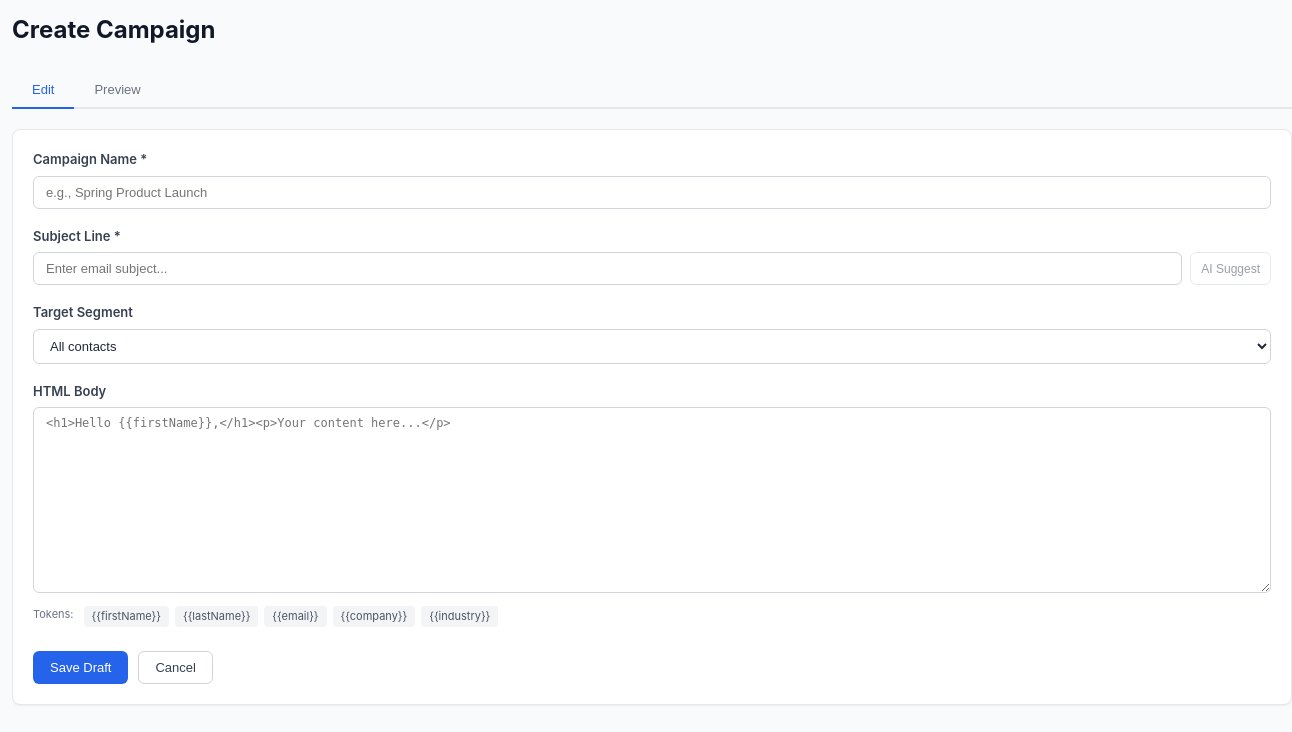
Scenario: CampaignEditor › shows AI suggestion dropdown and picks a suggestion
Note: Type a subject first
Type "Check this out" into the field with placeholder "Enter email subject...". click: x=608, y=268
box: left=33, top=252, right=1182, bottom=285
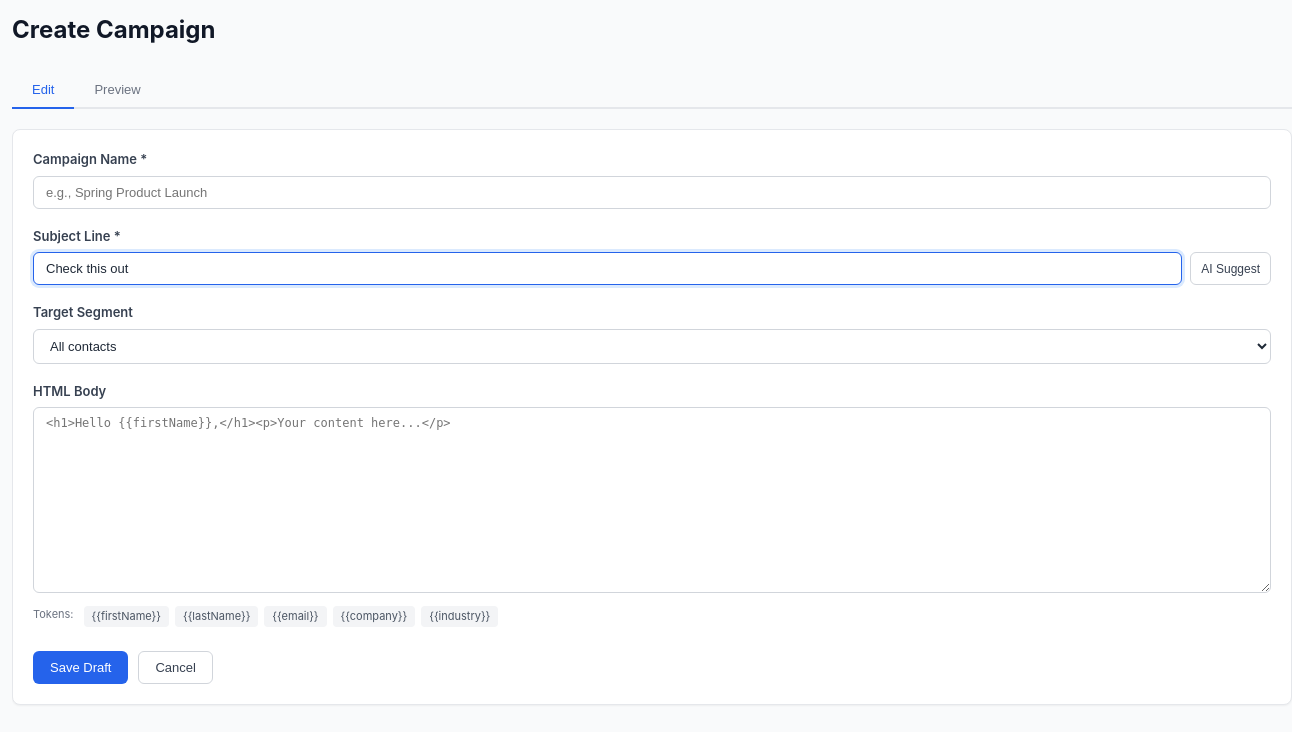
Note: Click AI Suggest button
Click the button "AI Suggest". click: x=1231, y=268
box: left=1190, top=252, right=1271, bottom=285
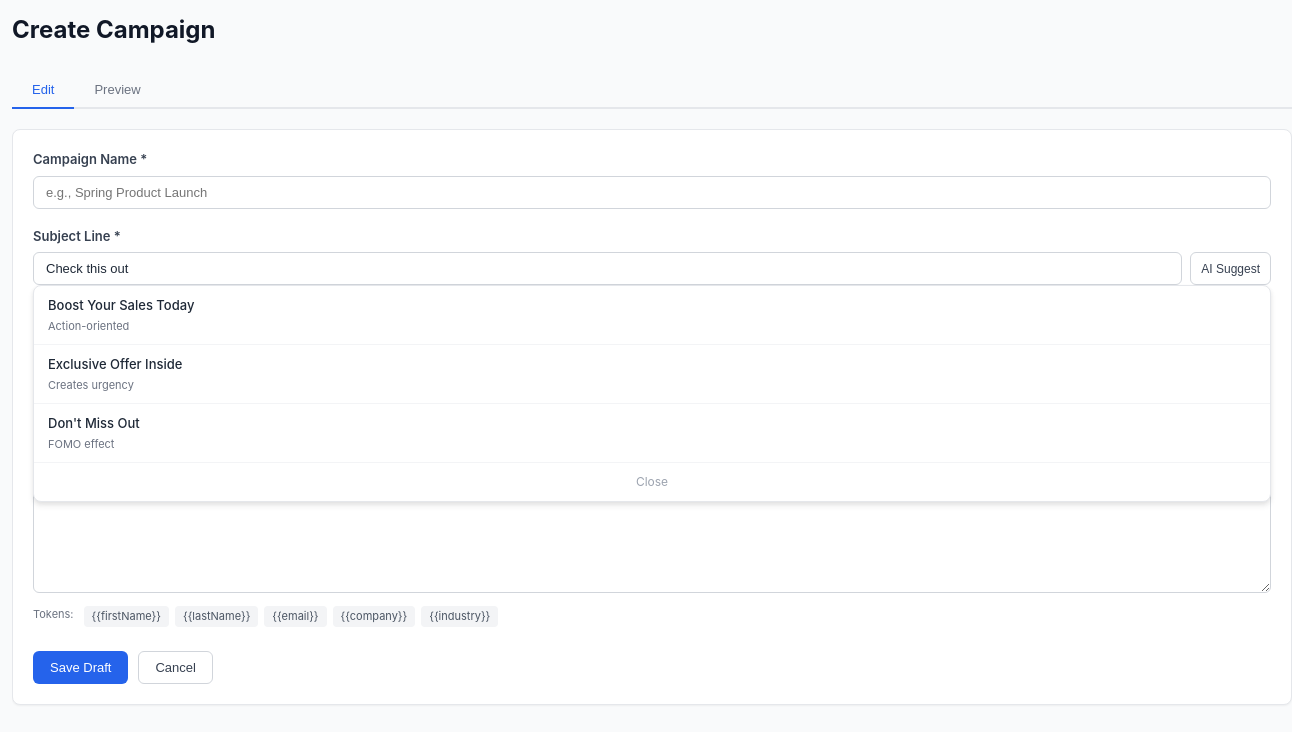
Check: the text "Boost Your Sales Today" is shown
Check: the text "Action-oriented" is shown, box left=48, top=318, right=129, bottom=332
Note: Click a suggestion
Click the text "Boost Your Sales Today". click: x=121, y=305
box: left=48, top=297, right=194, bottom=313
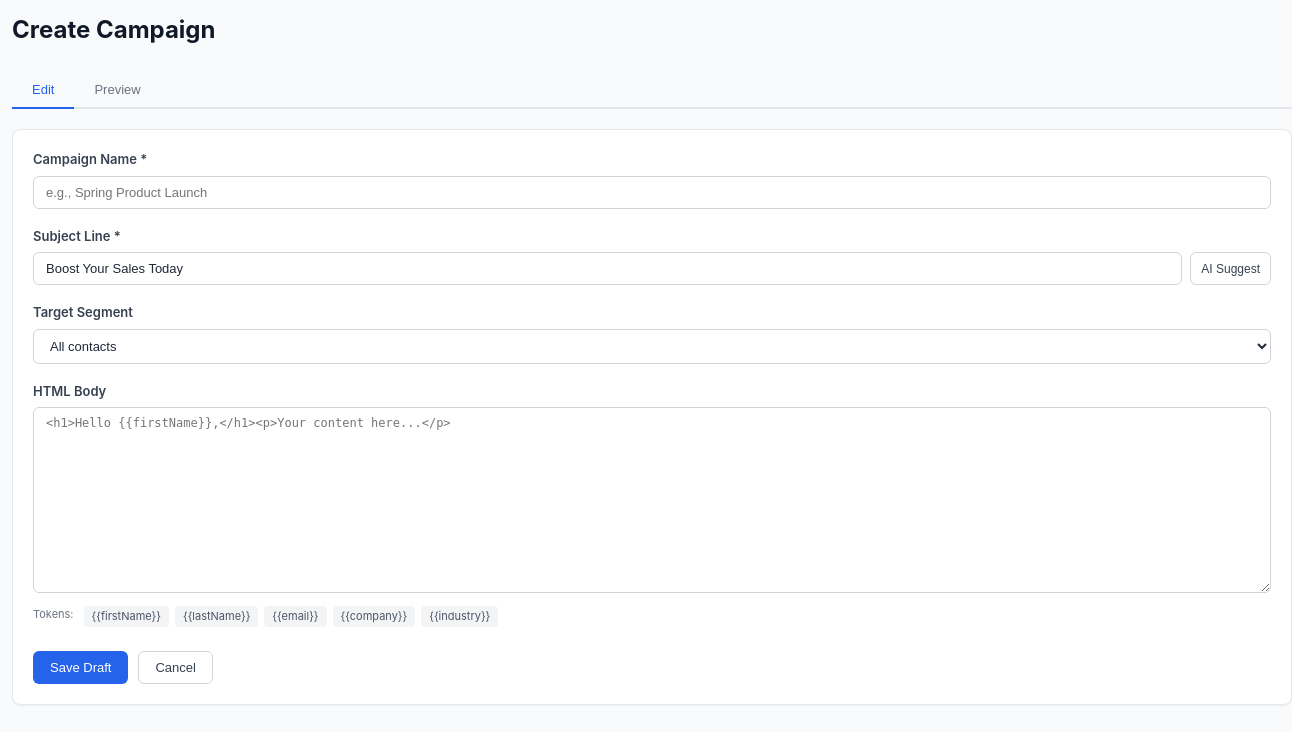
Check: the field with placeholder "Enter email subject..." holds "Boost Your Sales Today", box left=33, top=252, right=1182, bottom=285
